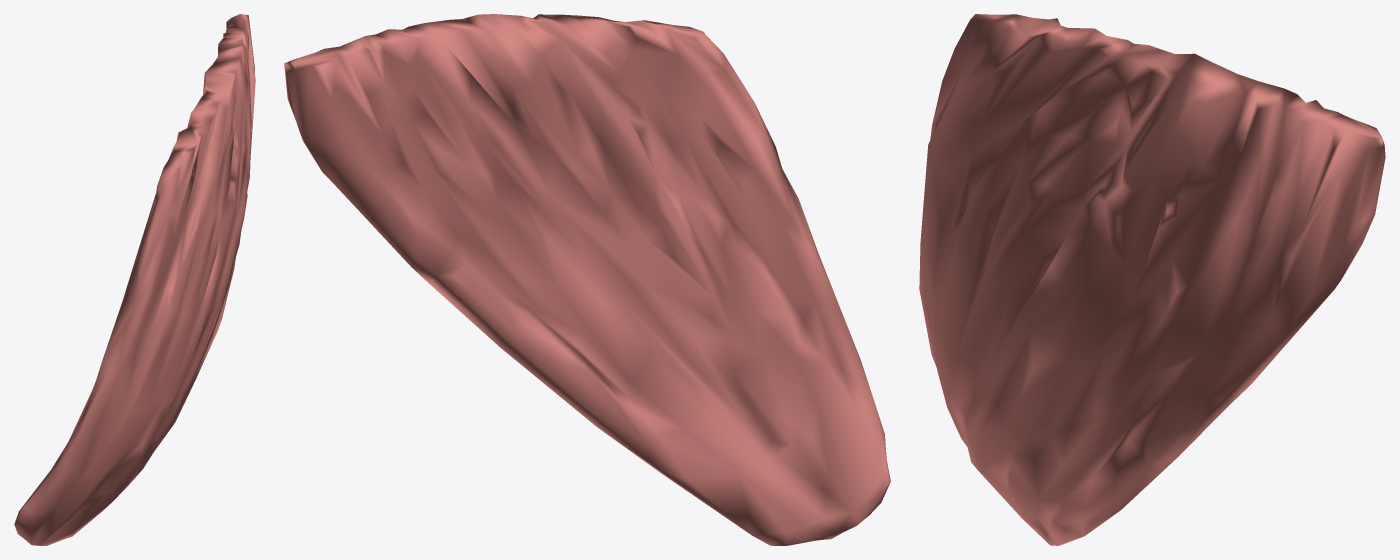
3 renders of one model, left to right at view 1: azimuth 30°, elevation 25°; view 2: azimuth 150°, elevation 25°; view 3: azimuth 270°, elevation 25°, orthographic. The views are drawn at different scales.
Parts seen in each view (by area): view 1: ZA_2a35fadb4b38ba50; view 2: ZA_2a35fadb4b38ba50; view 3: ZA_2a35fadb4b38ba50.
Part boxes in pixels (<box>): ZA_2a35fadb4b38ba50: <box>14,14,255,545</box>; ZA_2a35fadb4b38ba50: <box>284,14,890,545</box>; ZA_2a35fadb4b38ba50: <box>919,14,1385,545</box>.
Size of the model in its own units: 0.00973 by 0.0103 by 0.00685.
